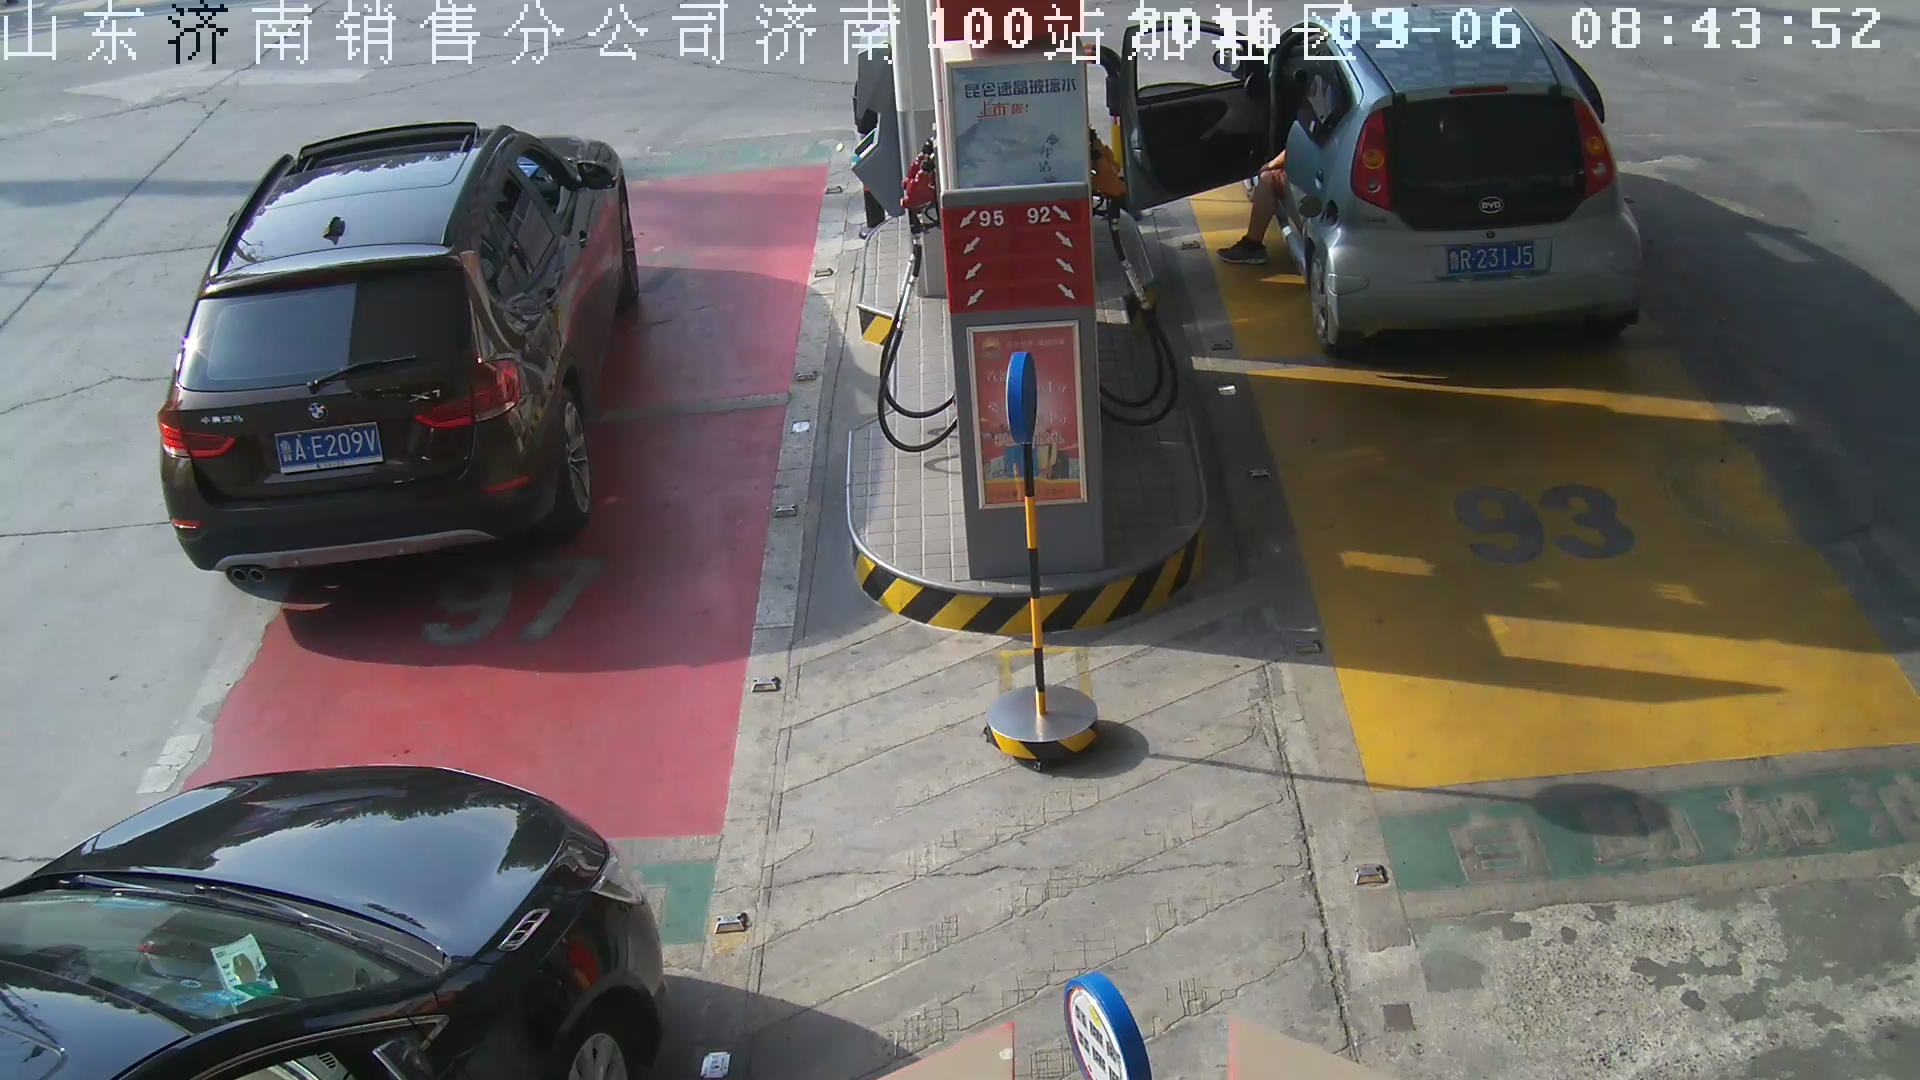blue: (274, 419, 386, 477), (1444, 240, 1538, 282)
